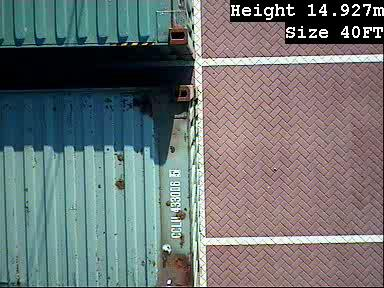groundmarker_2: (15, 1, 119, 141)
